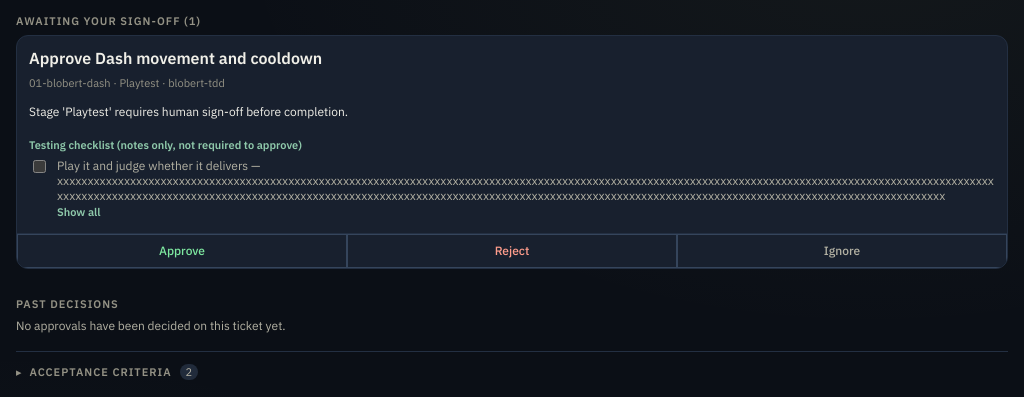
Scenario: ApprovalsView › opens a long checklist item in place without ticking it
Click the button "Show all" at coordinates (79, 212), box x1=57 y1=203 x2=100 y2=221
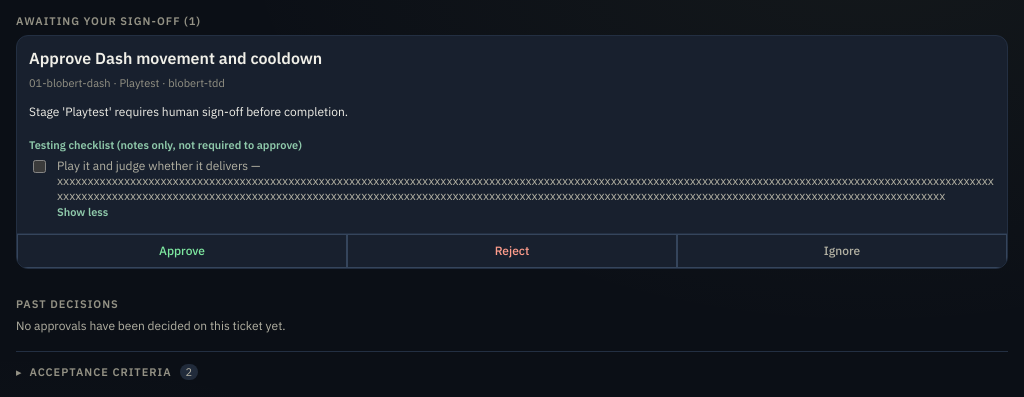
Expected: the checkbox labelled "Play it and judge" is not checked, x1=33 y1=160 x2=46 y2=173
Now the button "Show less" is expanded, box x1=57 y1=203 x2=108 y2=221
